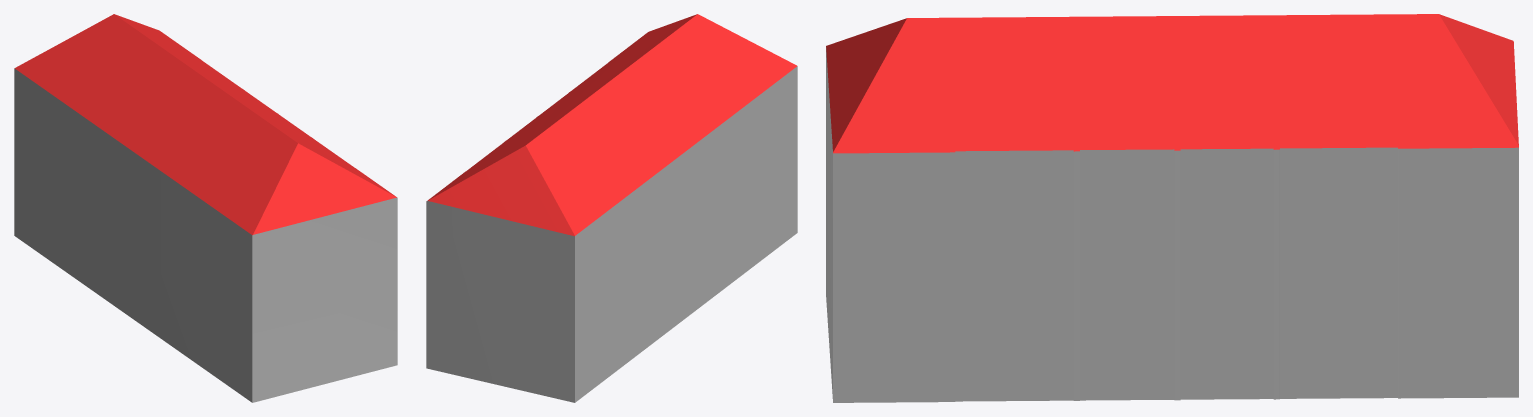
File: DEBY_LOD2_4727413.dae
The picture shows the model from 3 angles, left to right: view 1: azimuth 30°, elevation 25°; view 2: azimuth 150°, elevation 25°; view 3: azimuth 270°, elevation 25°; orthographic projection. The views are drawn at different scales.
Size of the model in its own units: 11.87 by 30.88 by 16.26.
